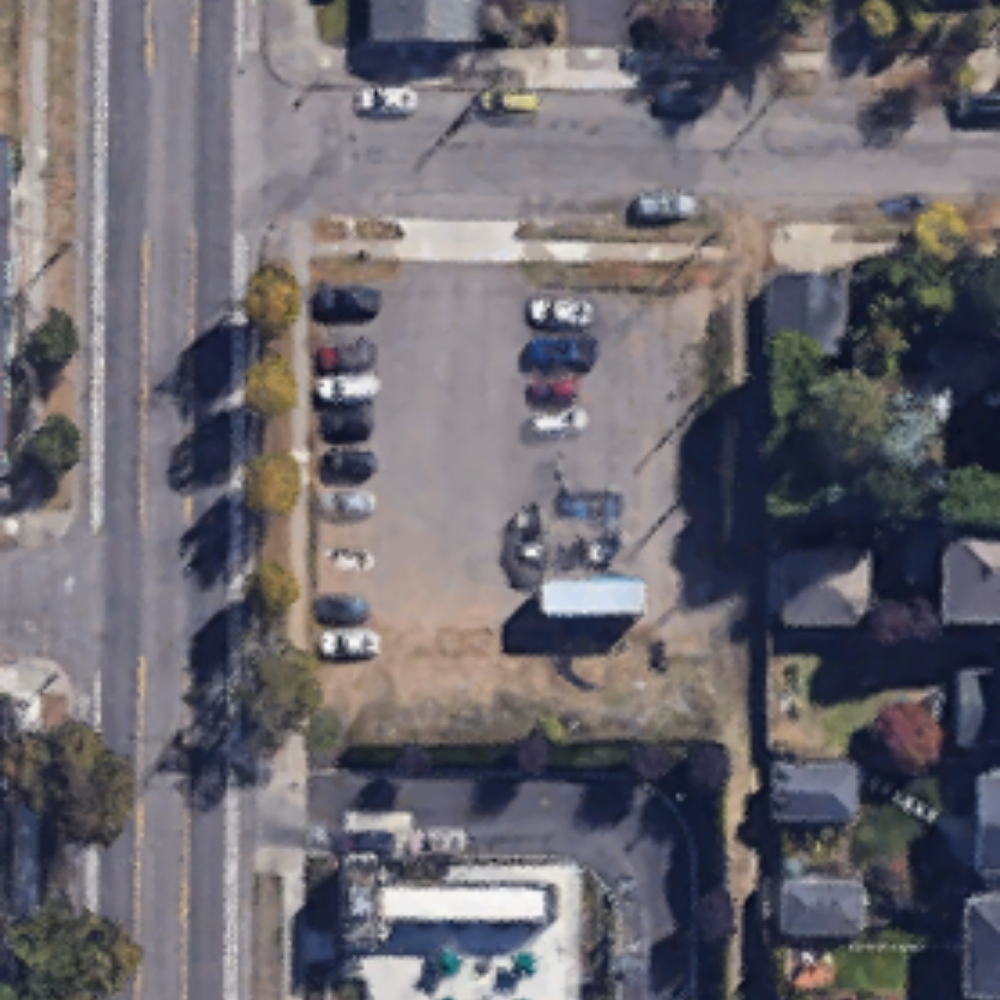parking: (310, 225, 730, 650)
